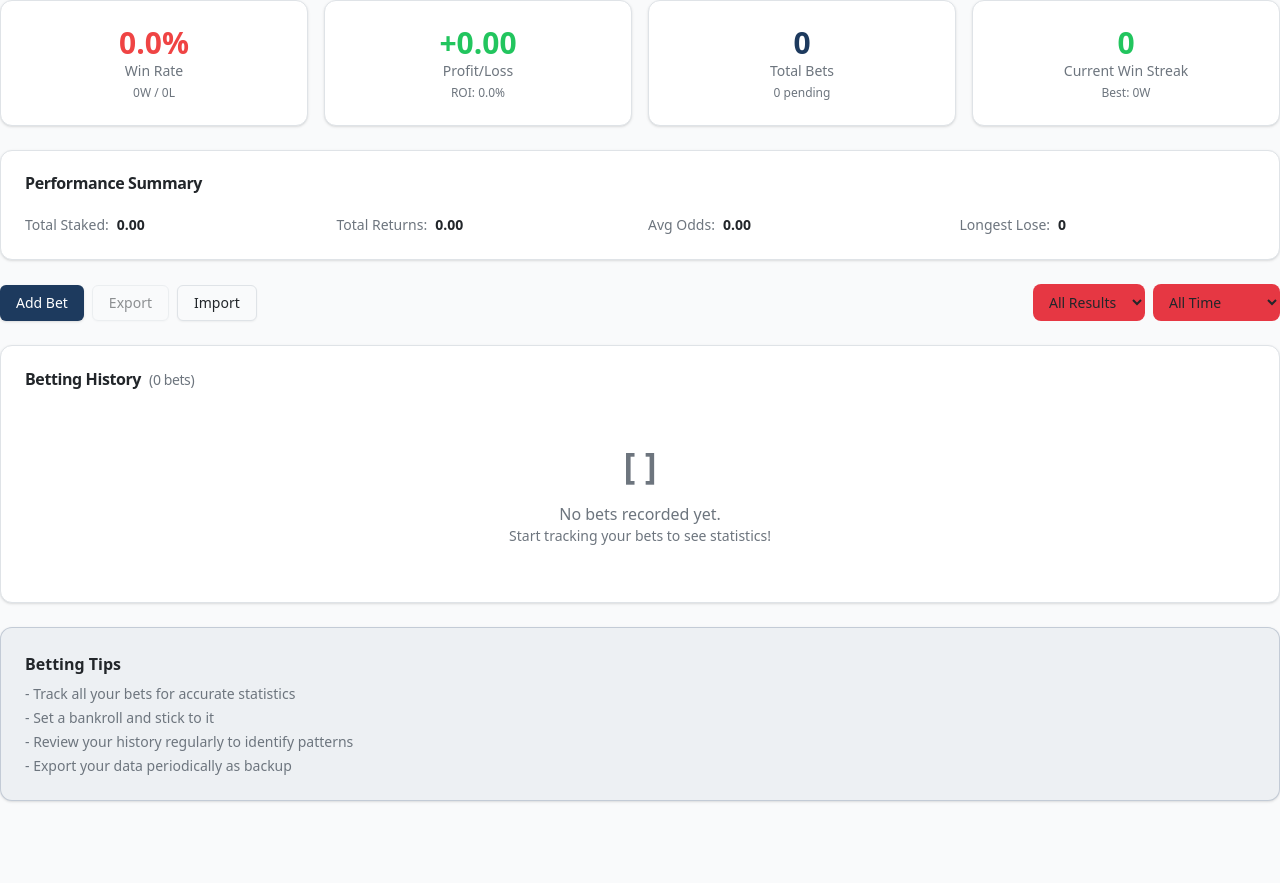
Scenario: BettingHistoryTracker › Add Bet Form › adds a new bet when form is submitted
Click the button "Add Bet": (42, 302) [0,284,84,320]
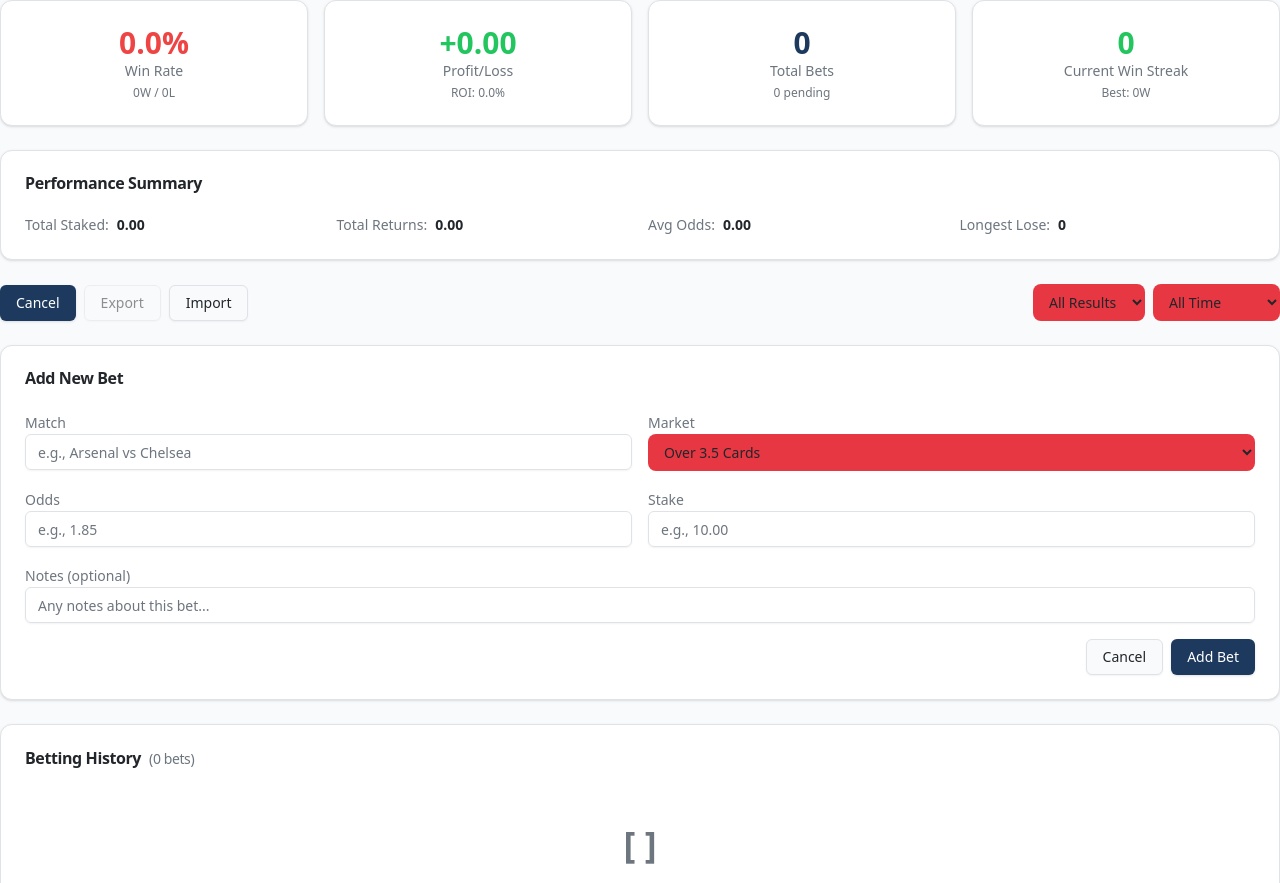
In the field with placeholder "e.g., Arsenal vs Chelsea": (328, 452) [25,434,632,470], type "Test Match"
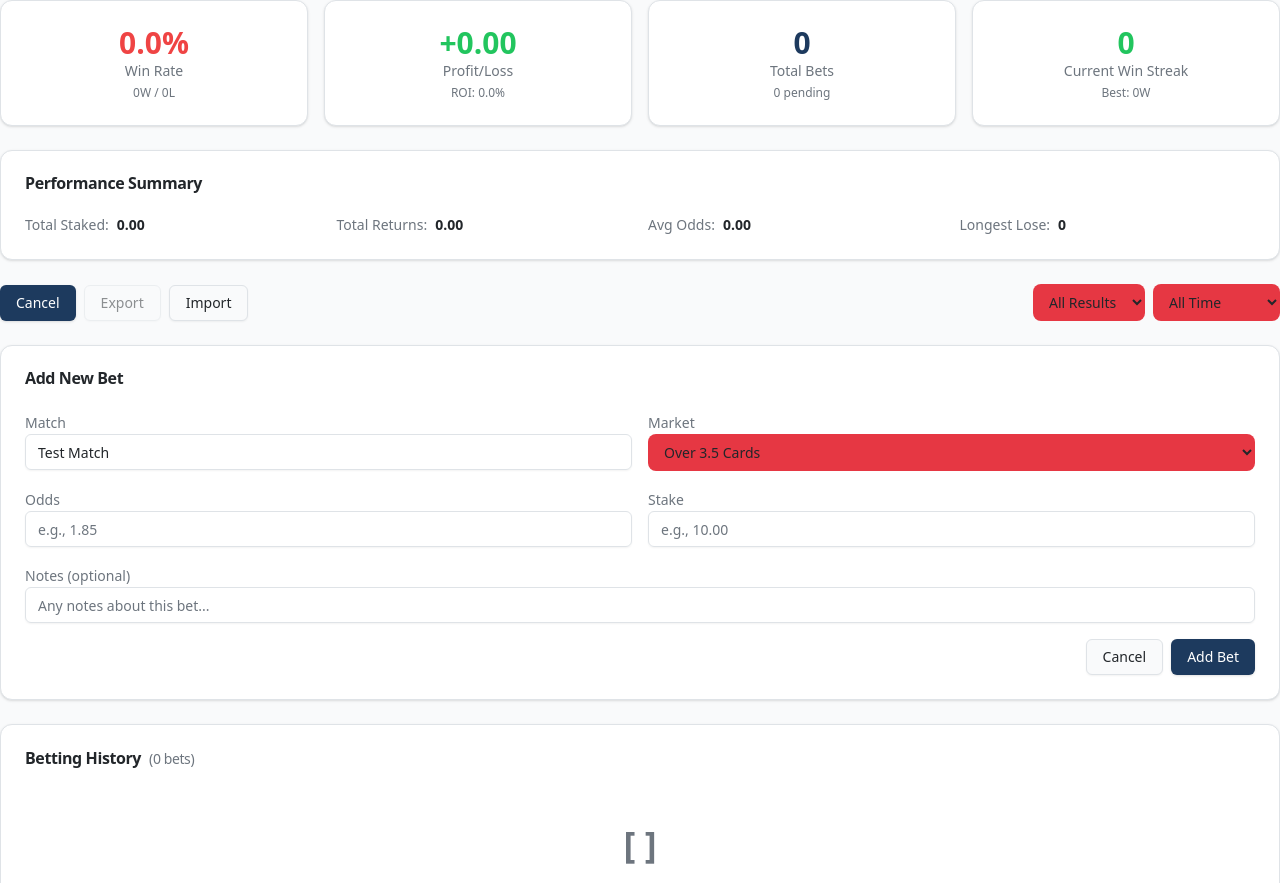
In the number field with placeholder "e.g., 1.85": (328, 529) [25,511,632,547], type "2.00"
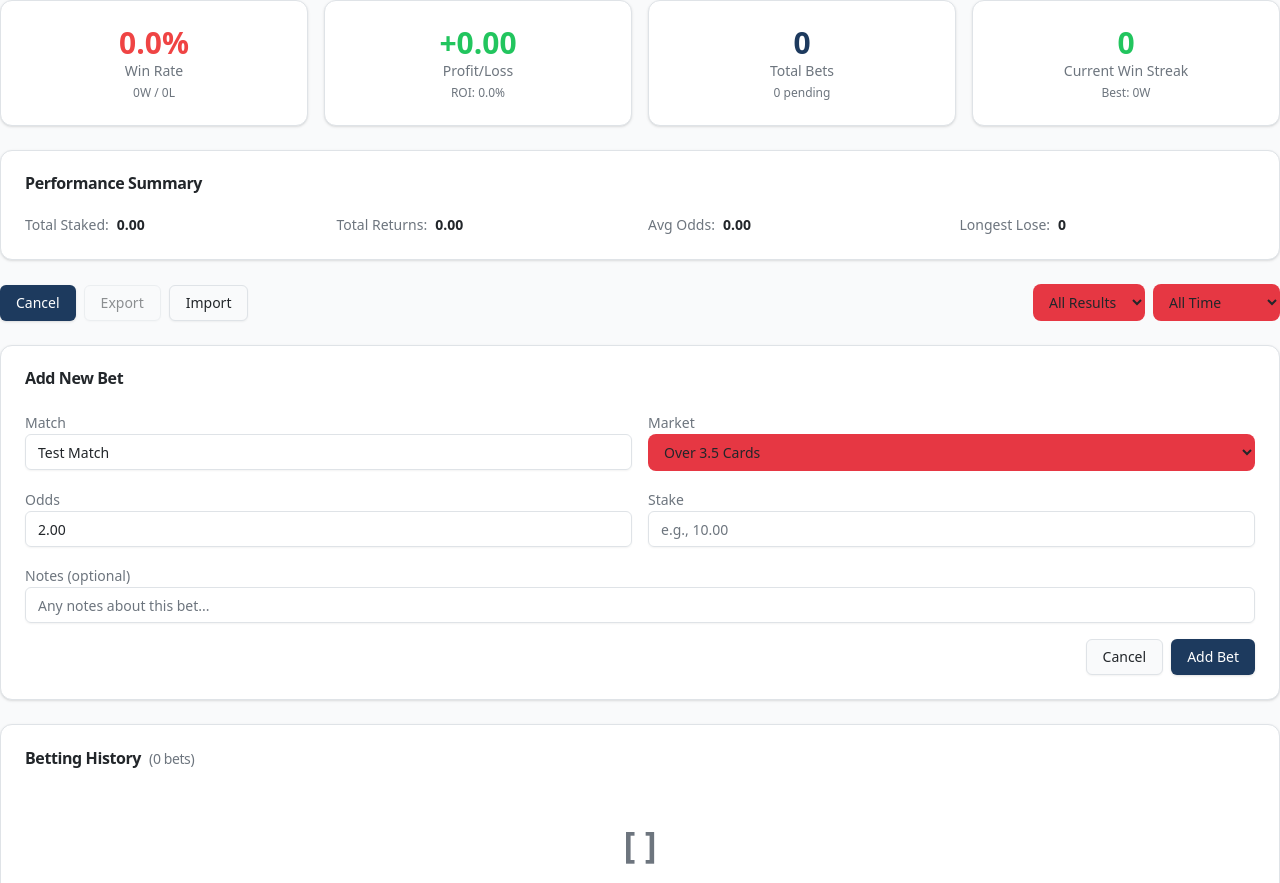
In the number field with placeholder "e.g., 10.00": (952, 529) [648,511,1255,547], type "10"
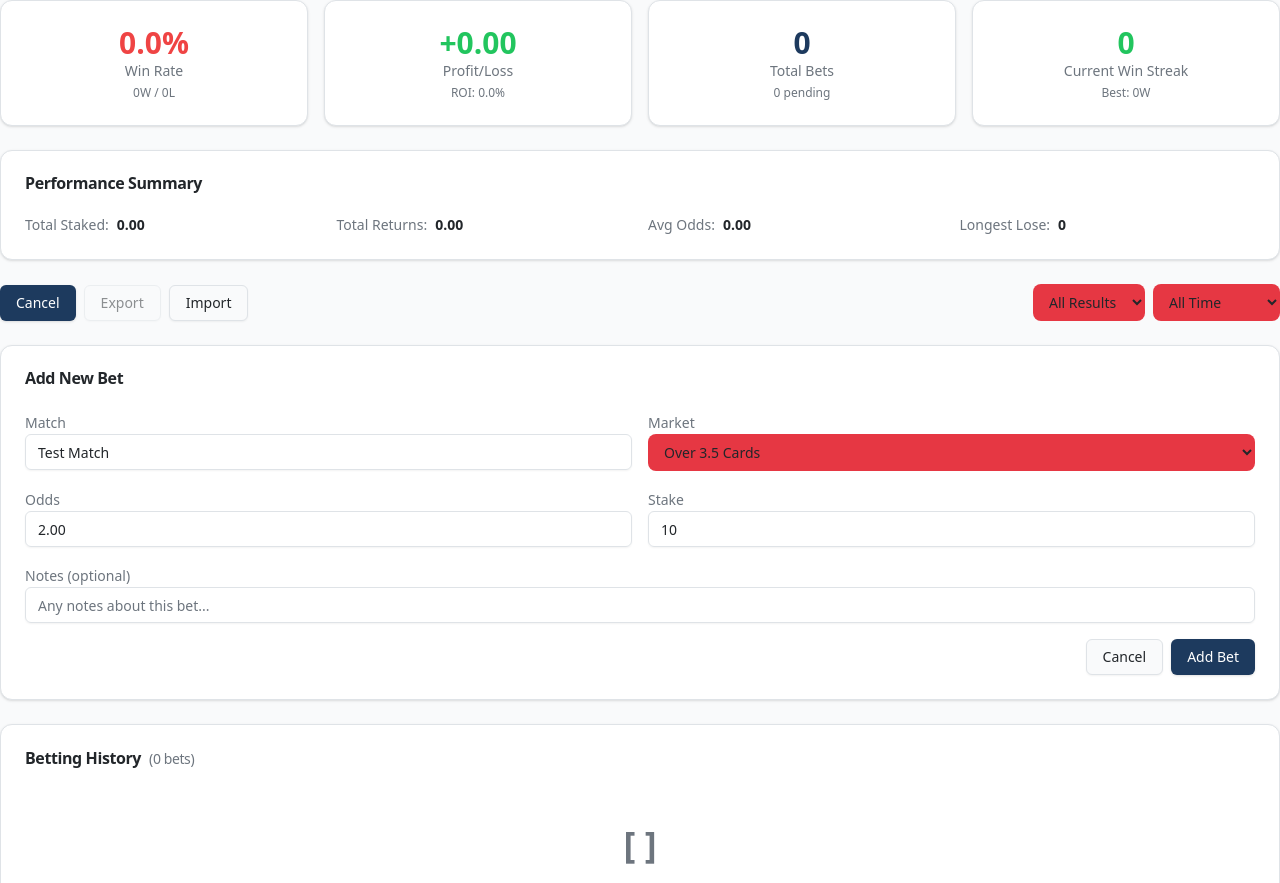
Note: Find the submit button (second "Add Bet" button in the form)
Click the button "Add Bet": (1213, 657) [1171,639,1255,675]
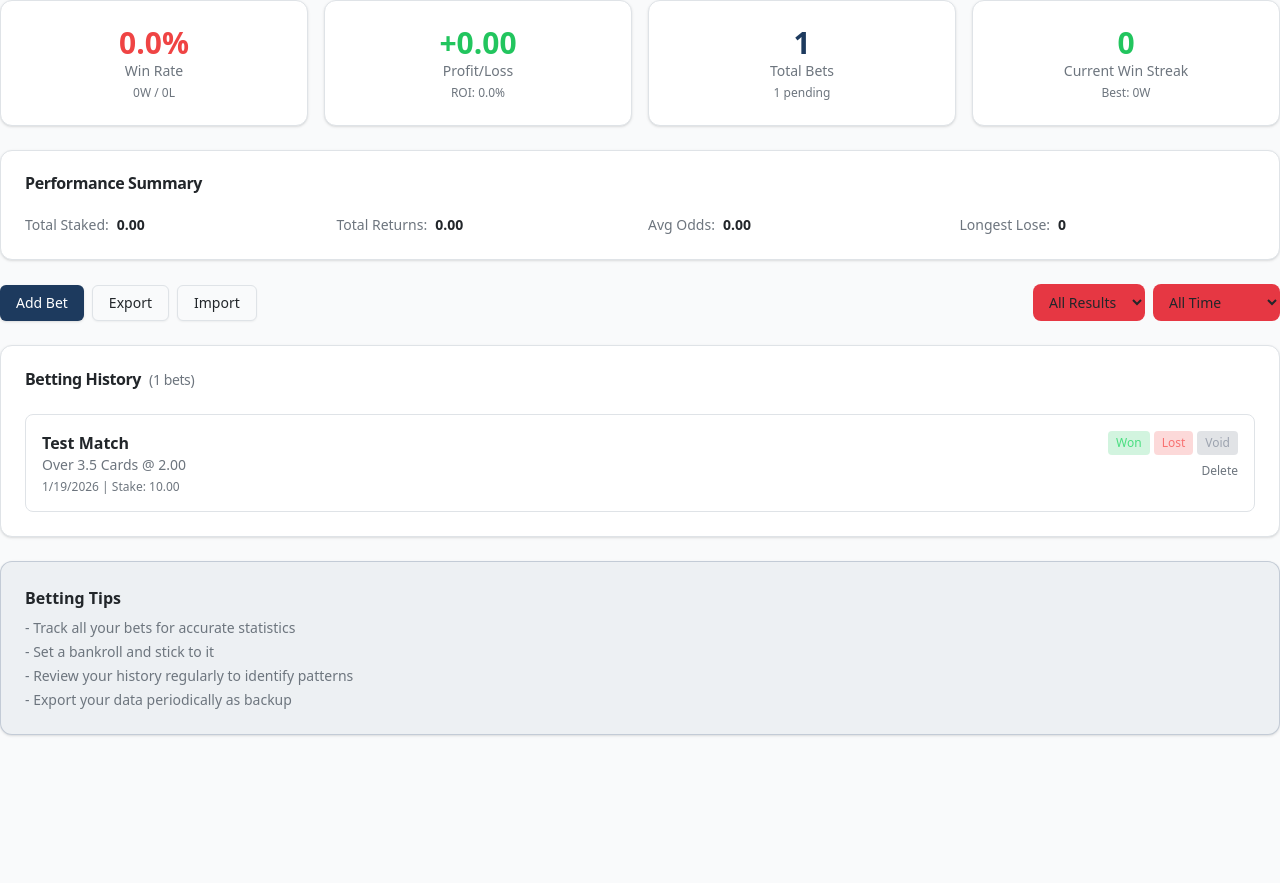
Now the text "Test Match" is shown, box [42,432,129,454]
